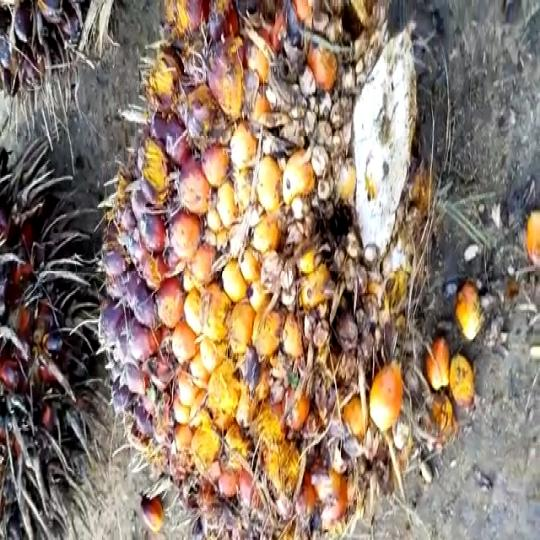masak: (97, 14, 492, 540)
